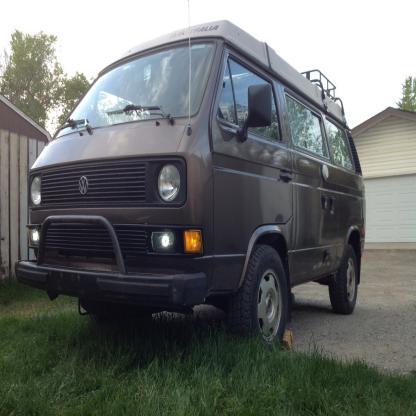Bus: (14, 0, 366, 353)
